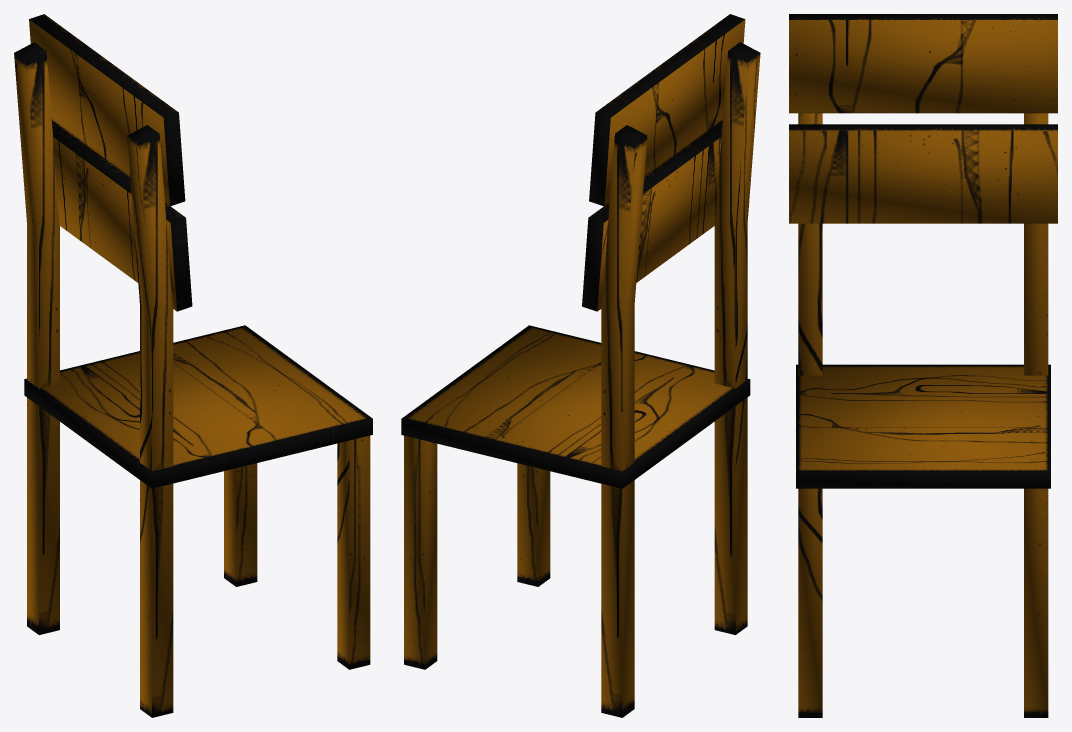
Rendered from woodChair.obj.
3 renders of one model, left to right at view 1: azimuth 30°, elevation 25°; view 2: azimuth 150°, elevation 25°; view 3: azimuth 270°, elevation 25°, orthographic.
Parts seen in each view (by area): view 1: Cube; view 2: Cube; view 3: Cube.
Part boxes in pixels (bbox=[...]): Cube: bbox=[14, 14, 372, 717]; Cube: bbox=[401, 14, 760, 717]; Cube: bbox=[789, 14, 1057, 717].
Size of the model in its own units: 2.1 by 5.22 by 2.11.
